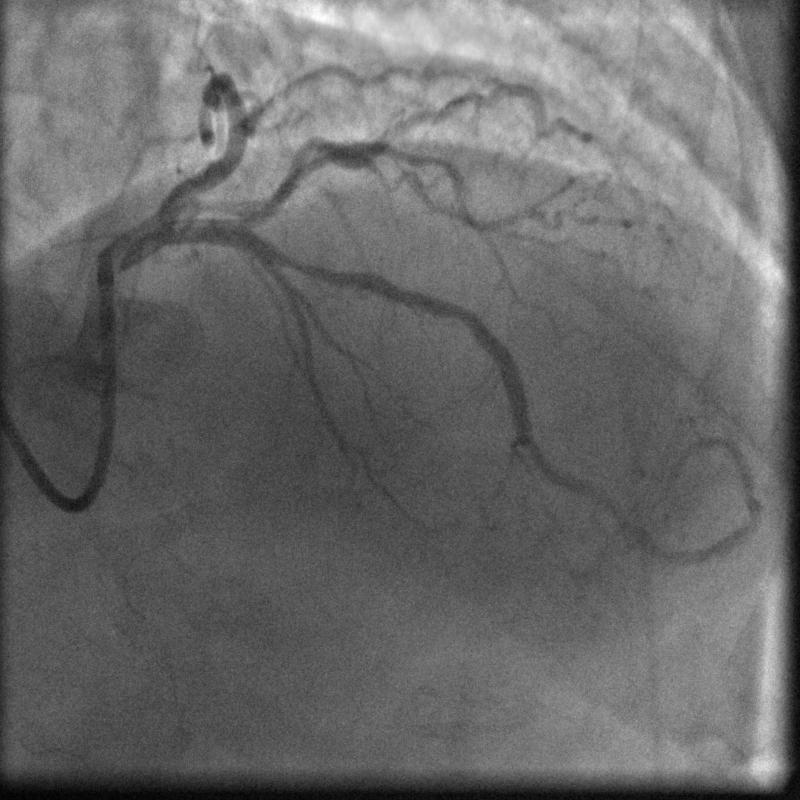Stenosis: (282, 240, 323, 287)
